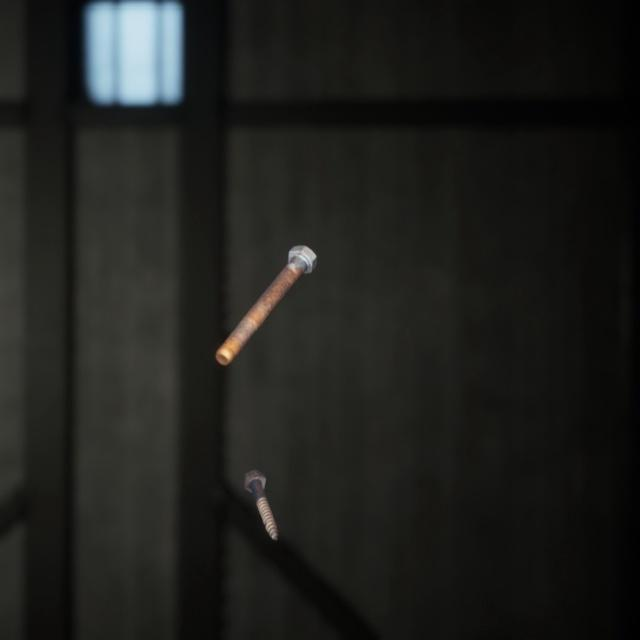bolt: (211, 223, 321, 351), (238, 443, 282, 522)
